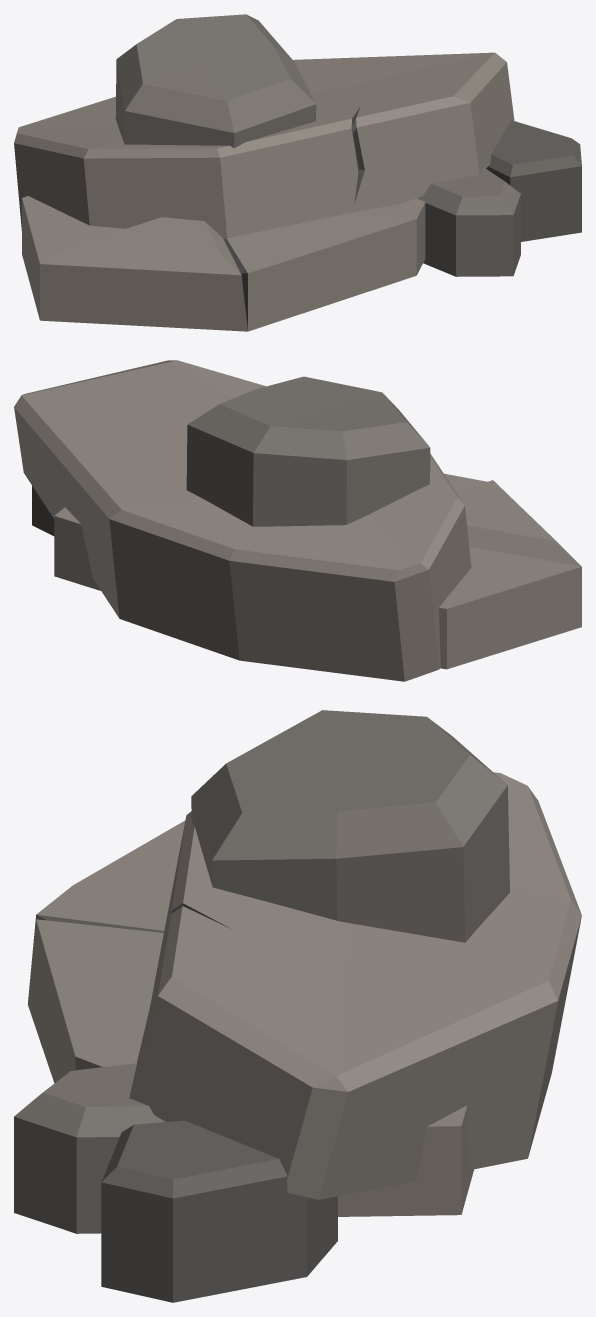
Rendered from flatrock1.fbx.
The picture shows the model from 3 angles, top to bottom: view 1: azimuth 30°, elevation 25°; view 2: azimuth 150°, elevation 25°; view 3: azimuth 270°, elevation 25°; orthographic projection. The views are drawn at different scales.
Parts seen in each view (by area): view 1: FlatRock1; view 2: FlatRock1; view 3: FlatRock1.
Boxes of the visible parts, left/top/right/bottom form: FlatRock1: left=14, top=14, right=581, bottom=331; FlatRock1: left=14, top=360, right=581, bottom=681; FlatRock1: left=14, top=710, right=581, bottom=1302.
Bounding box in the file's own units: 2.87 × 1.06 × 1.72.
